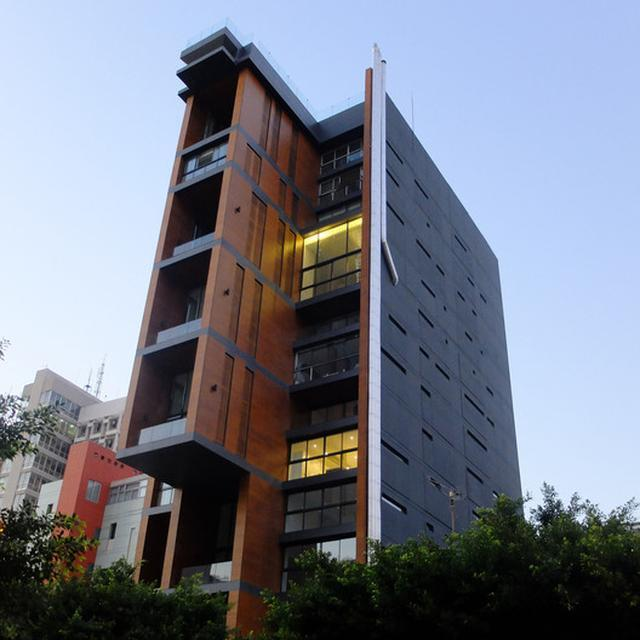building: (130, 32, 538, 569), (0, 352, 140, 564)
